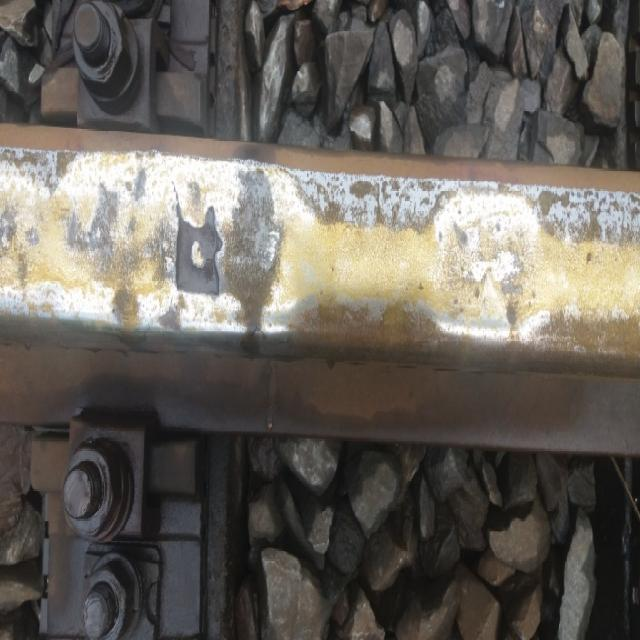broken_rail_medium: (170, 180, 224, 302)
head_checks_high: (52, 141, 323, 335), (423, 182, 547, 356)
